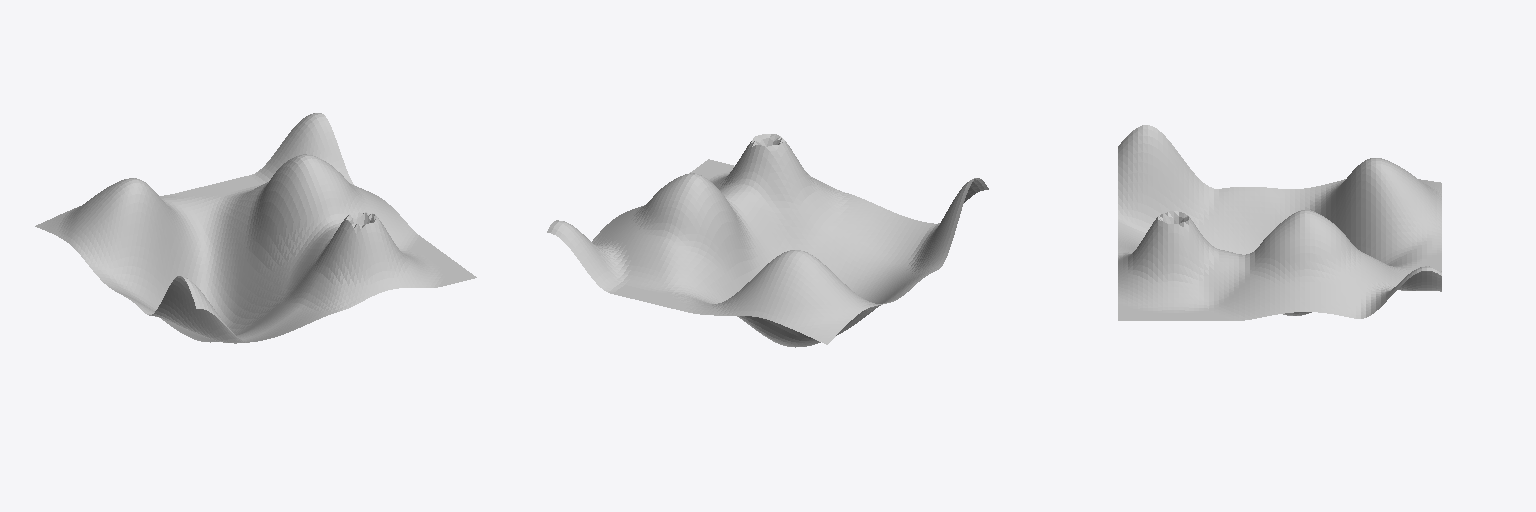
The model's file is landscape.obj.
3 views of the same model, side by side, from view 1: azimuth 30°, elevation 25°; view 2: azimuth 150°, elevation 25°; view 3: azimuth 270°, elevation 25° (orthographic).
Parts seen in each view (by area): view 1: Plane_Plane.004; view 2: Plane_Plane.004; view 3: Plane_Plane.004.
Boxes of the visible parts, x1,y1,x2,y2 form: Plane_Plane.004: [35, 113, 476, 343]; Plane_Plane.004: [547, 134, 988, 347]; Plane_Plane.004: [1118, 125, 1441, 320].
Size of the model in its own units: 16 by 8.17 by 16.